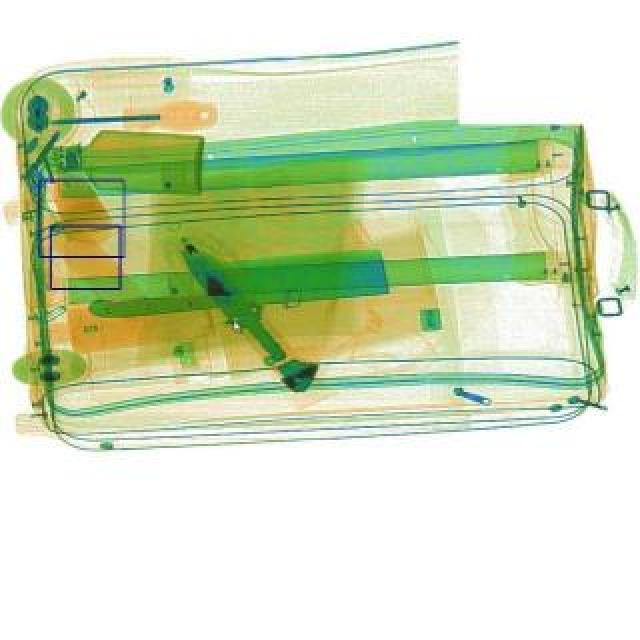knife: (84, 248, 388, 322), (170, 234, 294, 370)
